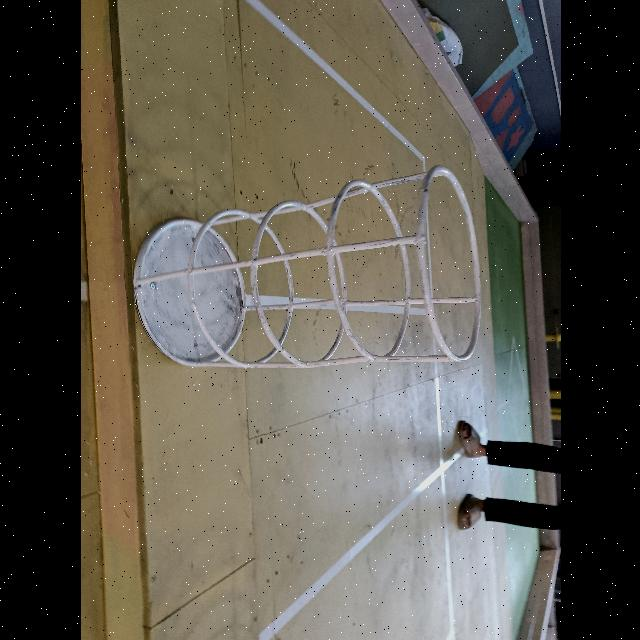S: (128, 166, 480, 369)
